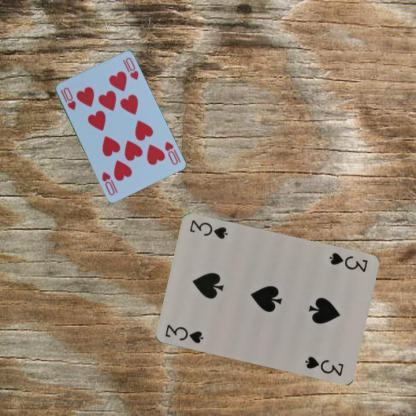10h: (58, 84, 77, 111), (162, 138, 179, 166)
3s: (326, 250, 368, 274), (162, 322, 204, 345)
